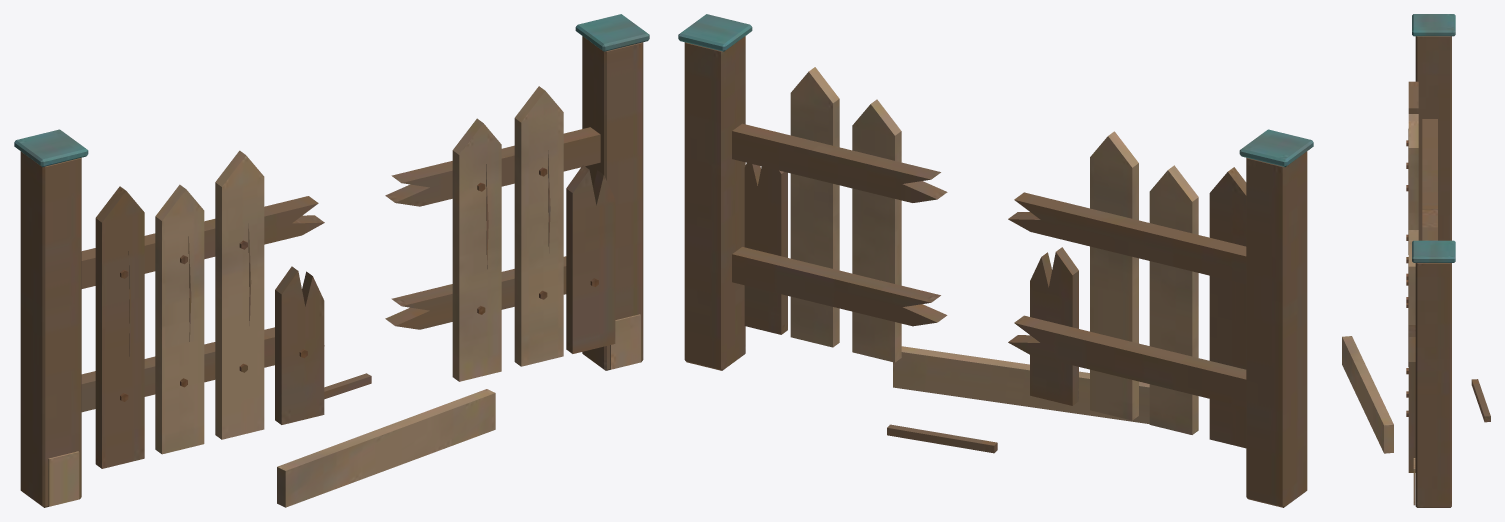
The model's file is BR15_broken_wooden_fence_v1.glb.
The picture shows the model from 3 angles, left to right: view 1: azimuth 30°, elevation 25°; view 2: azimuth 150°, elevation 25°; view 3: azimuth 270°, elevation 25°; orthographic projection. The views are drawn at different scales.
Visible parts, largest first — view 1: Heavy fence post; view 2: Heavy fence post; view 3: Heavy fence post.
Part boxes in pixels (<box>): Heavy fence post: <box>14,14,649,507</box>; Heavy fence post: <box>678,14,1313,507</box>; Heavy fence post: <box>1342,14,1490,507</box>.
Size of the model in its own units: 3 by 1.7 by 0.8281.
4 materials, 4 textured.
